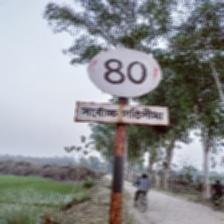Speed-limit: (73, 47, 170, 129)
